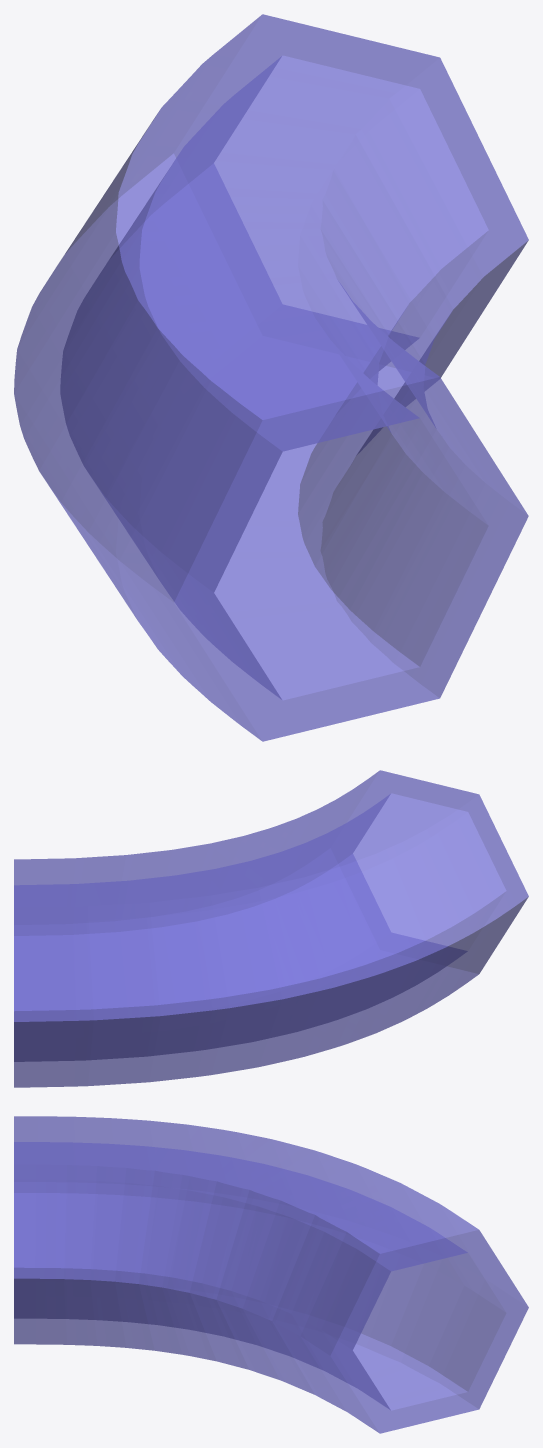
Rendered from curva120.glb.
3 renders of one model, top to bottom at view 1: azimuth 30°, elevation 25°; view 2: azimuth 150°, elevation 25°; view 3: azimuth 270°, elevation 25°, orthographic. The views are drawn at different scales.
Parts seen in each view (by area): view 1: curva120-col; view 2: curva120-col; view 3: curva120-col.
Part boxes in pixels (box(x1,y1,x2,y2)): curva120-col: box(14, 14, 528, 741); curva120-col: box(14, 770, 528, 1087); curva120-col: box(14, 1116, 528, 1433).
Size of the model in its own units: 1.11 by 0.5382 by 1.39.
